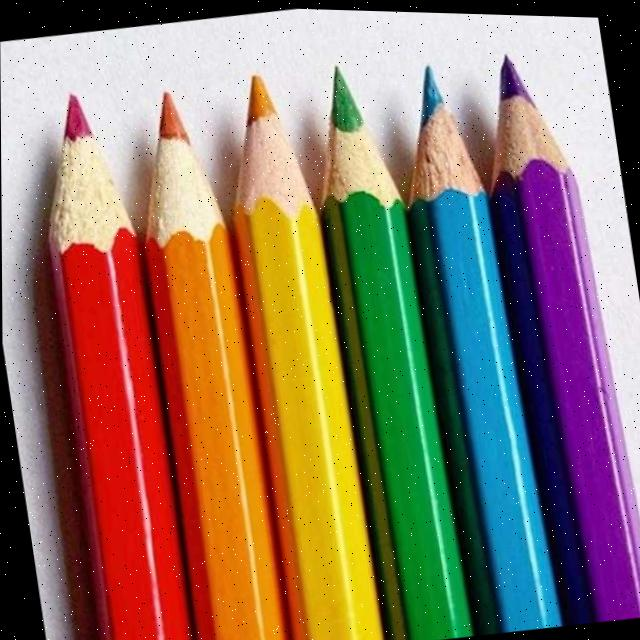pencil: (224, 45, 399, 640), (34, 74, 211, 640), (137, 53, 297, 640), (317, 46, 472, 640), (485, 34, 640, 621), (405, 58, 561, 632)
